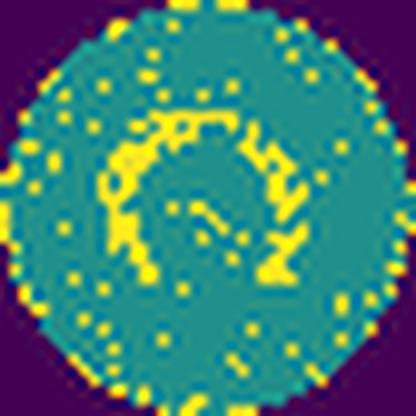Donut: (82, 96, 328, 303)
